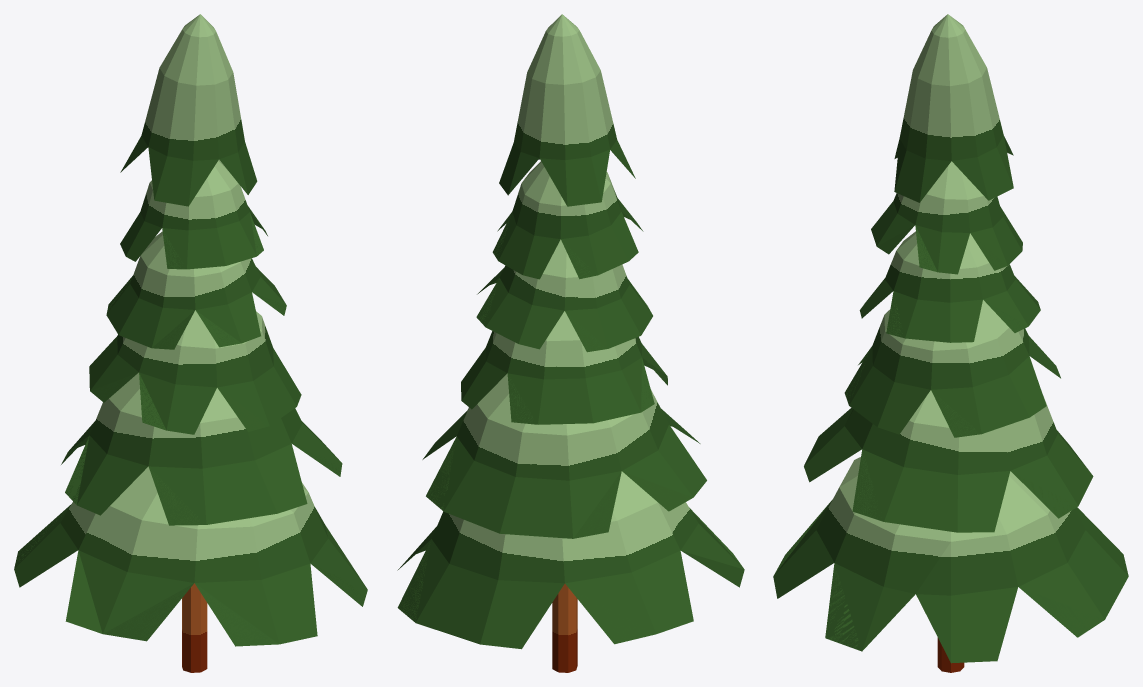
The model's file is IrregularFirTree.glb.
The picture shows the model from 3 angles, left to right: view 1: azimuth 30°, elevation 25°; view 2: azimuth 150°, elevation 25°; view 3: azimuth 270°, elevation 25°; orthographic projection.
Visible parts, largest first — view 1: Tree.055; view 2: Tree.055; view 3: Tree.055.
Boxes of the visible parts, box(x1,y1,x2,y2) form: Tree.055: box(14, 14, 367, 672); Tree.055: box(397, 14, 744, 672); Tree.055: box(773, 14, 1128, 672).
Size of the model in its own units: 1.7 by 3.52 by 1.73.
Materials: 1 (1 with a texture image).
